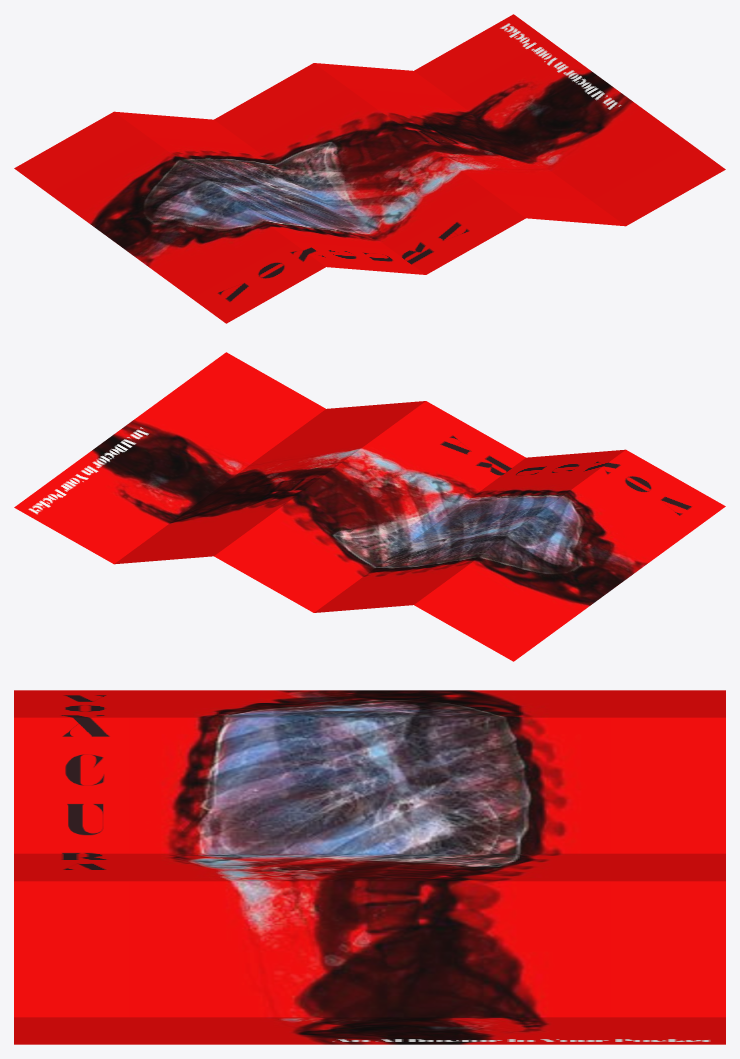
The model's file is voxcura_poster.glb.
The picture shows the model from 3 angles, top to bottom: view 1: azimuth 30°, elevation 25°; view 2: azimuth 150°, elevation 25°; view 3: azimuth 270°, elevation 25°; orthographic projection. The views are drawn at different scales.
Visible parts, largest first — view 1: Plane; view 2: Plane; view 3: Plane.
Boxes of the visible parts, x1=… form: Plane: x1=14, y1=14, x2=725, y2=323; Plane: x1=14, y1=352, x2=725, y2=661; Plane: x1=14, y1=690, x2=725, y2=1044.
Bounding box in the file's own units: 14.16 × 0.8758 × 10.42.
Materials: 1 (1 with a texture image).
